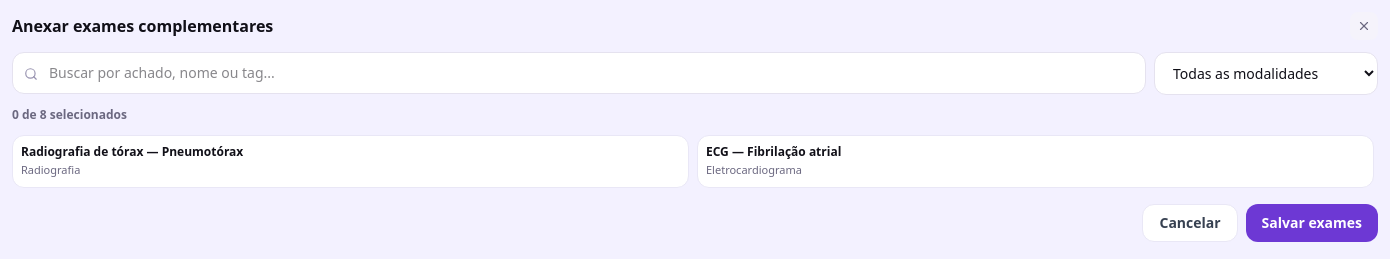
Test: ExamPicker (T11) › T11.2 — digitar no campo de busca filtra a lista exibida
The width and height of the screenshot is (1390, 259).
expect the text "Radiografia de tórax — Pneumotórax" is shown: met, box [21,143,243,160]
Type "fibrilacao" into the field.
click(579, 73); type("fibrilacao")  # box [12,52,1146,94]
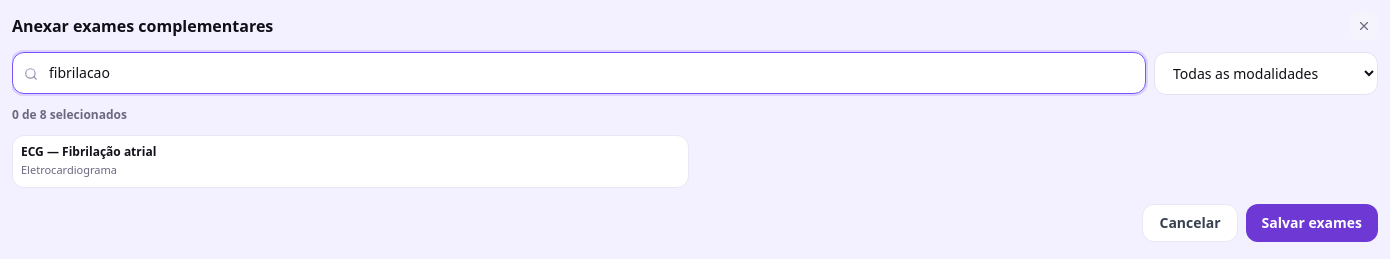
expect the text "ECG — Fibrilação atrial" is shown: met, box [21,143,156,160]
expect the button "Pneumotórax" is gone: met
